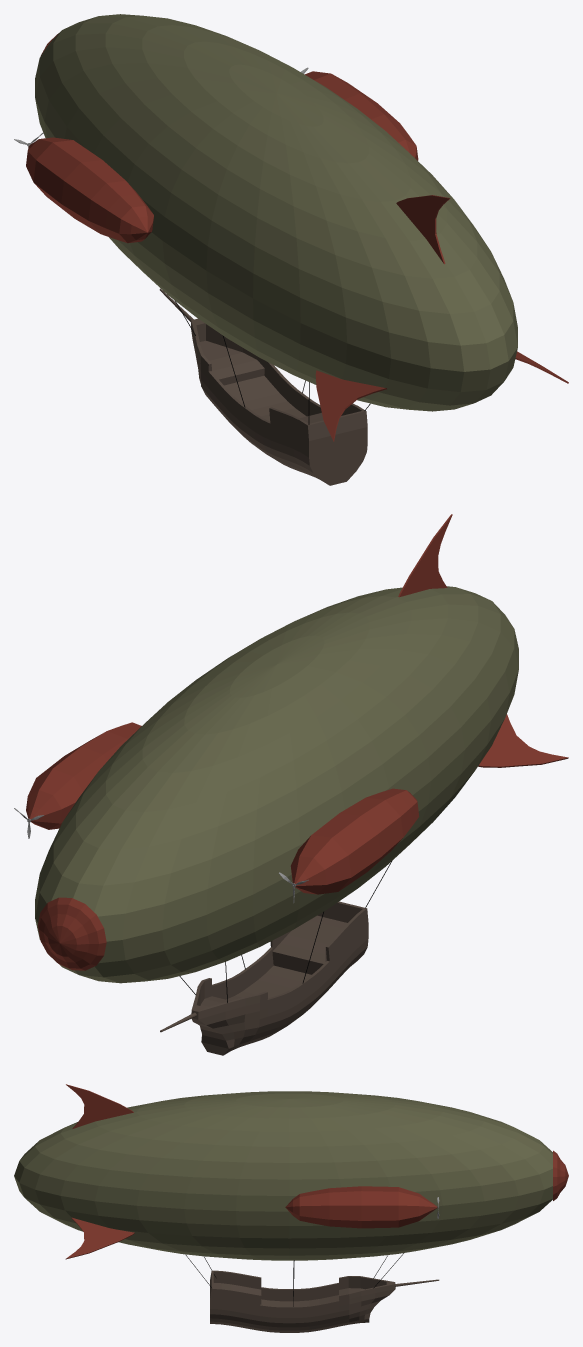
Rendered from Airship1.fbx.
The picture shows the model from 3 angles, top to bottom: view 1: azimuth 30°, elevation 25°; view 2: azimuth 150°, elevation 25°; view 3: azimuth 270°, elevation 25°; orthographic projection. The views are drawn at different scales.
Parts seen in each view (by area): view 1: Balloon, Main_Base, L_Engine, R_Engine, Fin3, Fin1; view 2: Balloon, Main_Base, L_Engine, R_Engine, Balloon_Head, Fin3, Fin1; view 3: Balloon, Main_Base, R_Engine, Fin1, Fin2, Balloon_Head.
Boxes of the visible parts, x1,y1,x2,y2 form: Balloon: (35,14,517,411); Main_Base: (191,318,367,485); L_Engine: (26,137,153,243); R_Engine: (305,71,418,160); Fin3: (315,370,386,441); Fin1: (396,195,450,264); Balloon: (35,586,518,983); Main_Base: (191,901,368,1055); L_Engine: (290,788,419,894); R_Engine: (26,722,141,829); Balloon_Head: (37,897,106,970); Fin3: (478,714,568,767); Fin1: (398,514,452,597); Balloon: (14,1091,552,1260); Main_Base: (210,1270,395,1332); R_Engine: (285,1186,437,1228); Fin1: (66,1084,133,1128); Fin2: (65,1217,134,1259); Balloon_Head: (553,1150,568,1200).
Size of the model in its own units: 1087 by 1242 by 2544.
